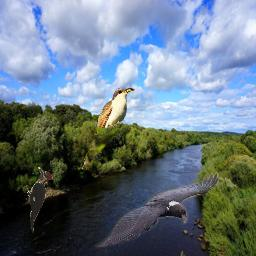Crow: (95, 172, 219, 249)
Cuckoo: (79, 86, 135, 172)
Woodpecker: (23, 167, 53, 233)
